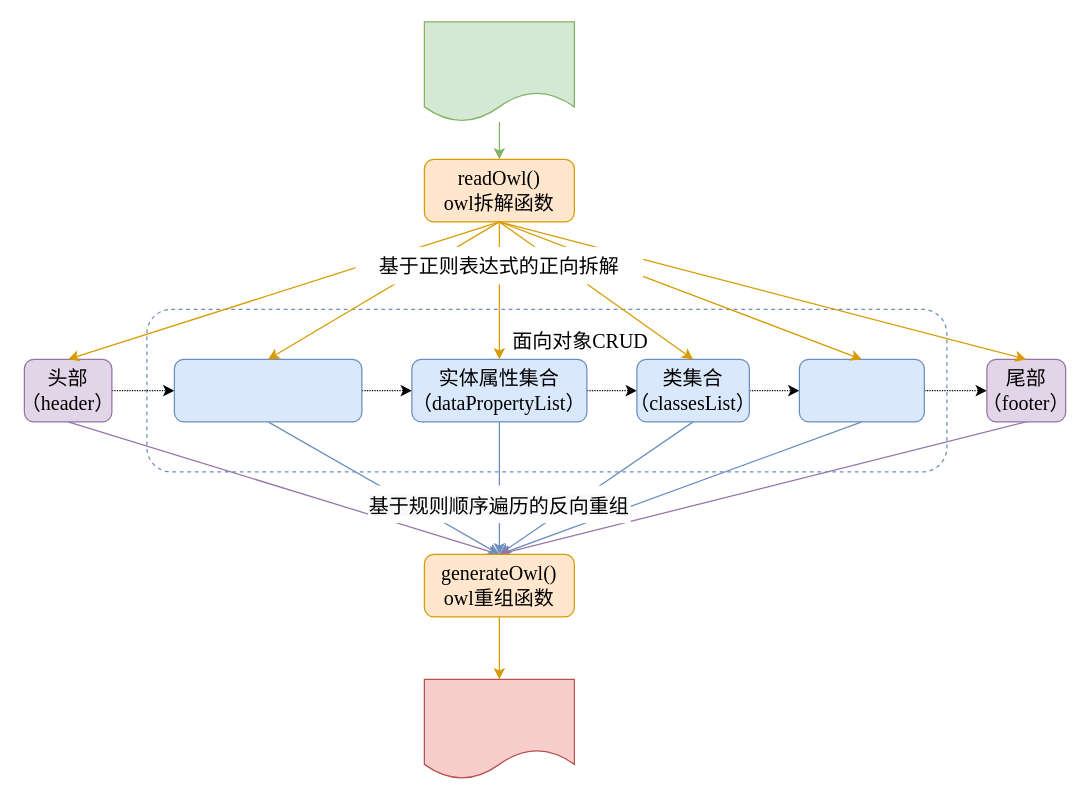
Some shapes in this 1091 by 801 pixel diagram are drawn without their labels. Here are the shapes that lost their labels. From the top down, the centre of each, then its label:
the point at 498,71: OWL File
the point at 267,390: 实体关系集合（ objectPropertyList ）
the point at 861,390: 实例集合（ individualList ）
the point at 498,728: New OWL File
